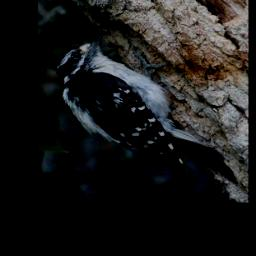Woodpecker: (52, 32, 241, 183)
